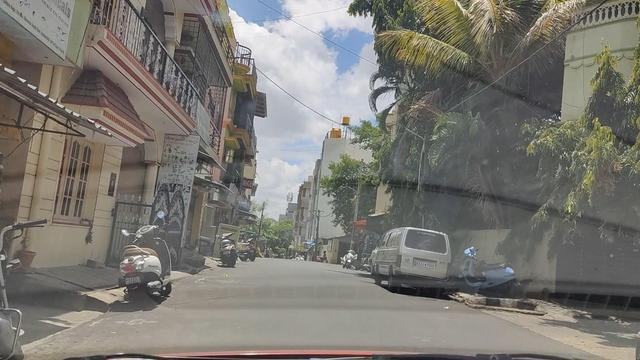LMV: (374, 227, 451, 297), (117, 218, 168, 305)
